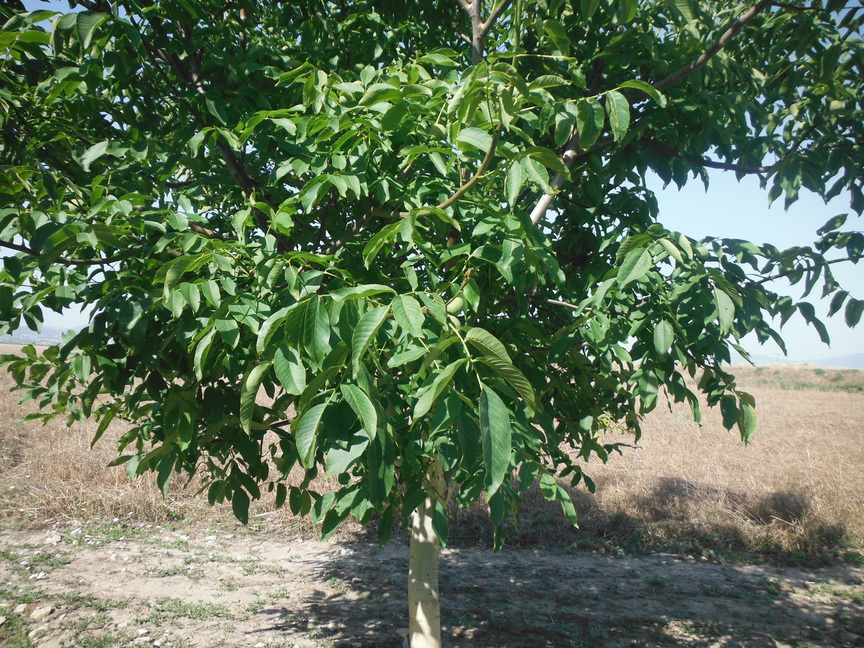walnut: (215, 253, 240, 278), (425, 120, 452, 143), (445, 293, 467, 319), (443, 314, 465, 337), (653, 55, 672, 79), (226, 69, 247, 90), (66, 195, 86, 214), (337, 87, 356, 106), (637, 19, 656, 38), (649, 14, 670, 29), (826, 96, 844, 113), (693, 243, 711, 260), (351, 59, 369, 75), (287, 56, 306, 70), (264, 22, 279, 38), (328, 37, 342, 53), (352, 77, 368, 91), (280, 42, 291, 55), (227, 203, 238, 215)
